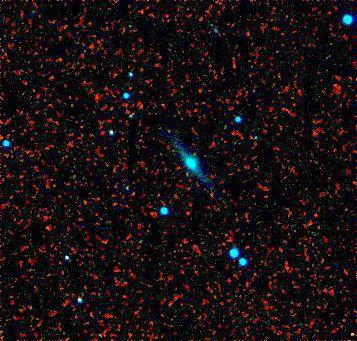star: (336, 319, 357, 341)
